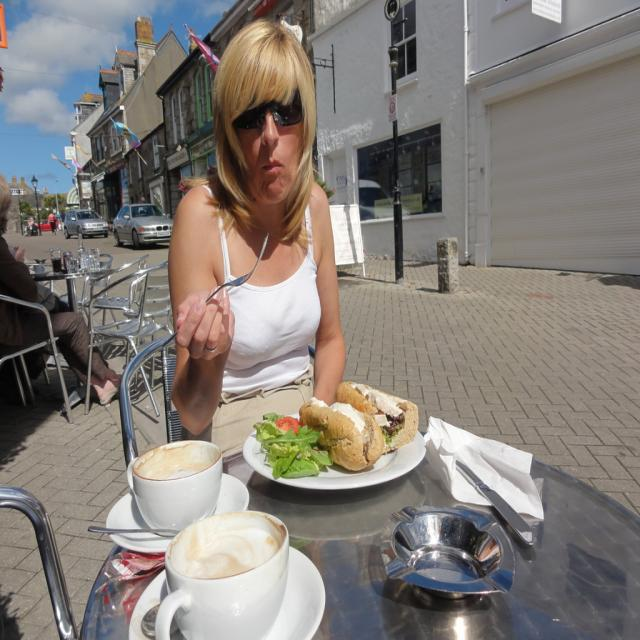Coffee: (149, 515, 303, 634)
